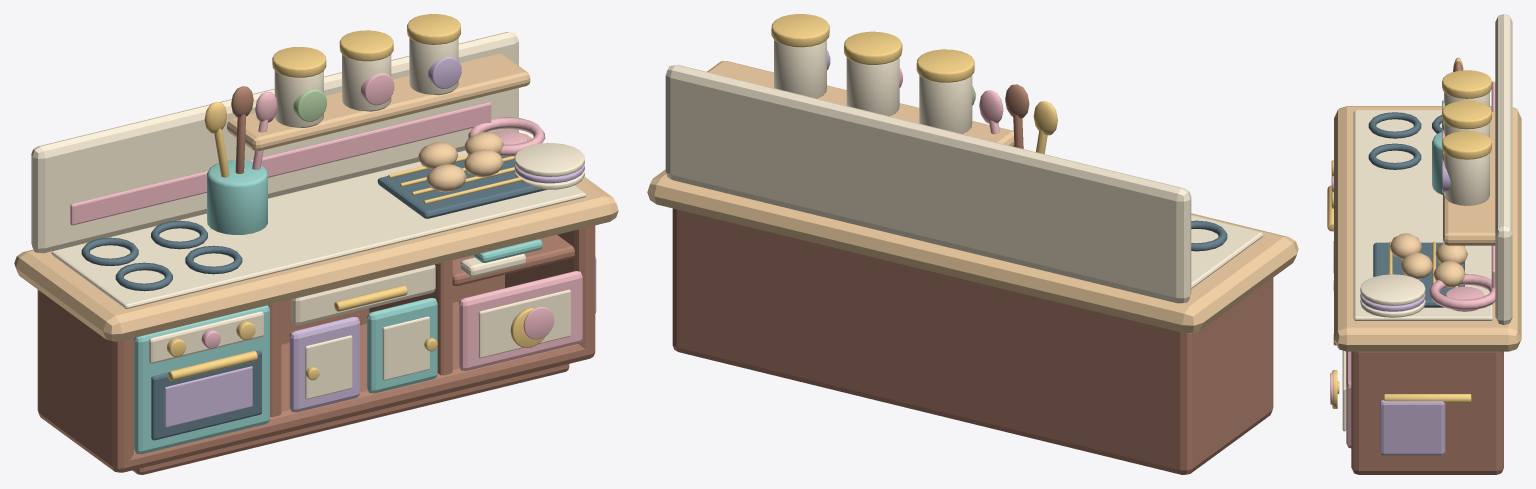
Rendered from MoonKitchenWorkbench.fbx.
3 views of the same model, side by side, from view 1: azimuth 30°, elevation 25°; view 2: azimuth 150°, elevation 25°; view 3: azimuth 270°, elevation 25° (orthographic). The views are drawn at different scales.
Visible parts, largest first — view 1: MoonKitchenWorkbench_Workbench_MoonCream, MoonKitchenWorkbench_Workbench_WarmWood, MoonKitchenWorkbench_Workbench_HoneyWood, MoonKitchenWorkbench_Workbench_Blush, MoonKitchenWorkbench_Workbench_MoonTeal, MoonKitchenWorkbench_Workbench_OvenGlass, MoonKitchenWorkbench_Workbench_Brass, MoonKitchenWorkbench_Workbench_Lavender, MoonKitchenWorkbench_Workbench_HerbGreen; view 2: MoonKitchenWorkbench_Workbench_WarmWood, MoonKitchenWorkbench_Workbench_MoonCream, MoonKitchenWorkbench_Workbench_HoneyWood, MoonKitchenWorkbench_Workbench_Brass, MoonKitchenWorkbench_Workbench_Blush; view 3: MoonKitchenWorkbench_Workbench_MoonCream, MoonKitchenWorkbench_Workbench_HoneyWood, MoonKitchenWorkbench_Workbench_WarmWood, MoonKitchenWorkbench_Workbench_Brass, MoonKitchenWorkbench_Workbench_Lavender, MoonKitchenWorkbench_Workbench_OvenGlass, MoonKitchenWorkbench_Workbench_Blush, MoonKitchenWorkbench_Workbench_MoonTeal.
Boxes of the visible parts, bbox=[...] form: MoonKitchenWorkbench_Workbench_MoonCream: bbox=[31, 32, 585, 399]; MoonKitchenWorkbench_Workbench_WarmWood: bbox=[37, 86, 595, 474]; MoonKitchenWorkbench_Workbench_HoneyWood: bbox=[14, 53, 618, 341]; MoonKitchenWorkbench_Workbench_Blush: bbox=[70, 73, 582, 370]; MoonKitchenWorkbench_Workbench_MoonTeal: bbox=[134, 160, 542, 454]; MoonKitchenWorkbench_Workbench_OvenGlass: bbox=[81, 156, 546, 440]; MoonKitchenWorkbench_Workbench_Brass: bbox=[167, 14, 545, 380]; MoonKitchenWorkbench_Workbench_Lavender: bbox=[164, 56, 596, 427]; MoonKitchenWorkbench_Workbench_HerbGreen: bbox=[293, 89, 326, 121]; MoonKitchenWorkbench_Workbench_WarmWood: bbox=[672, 84, 1273, 474]; MoonKitchenWorkbench_Workbench_MoonCream: bbox=[665, 40, 1263, 303]; MoonKitchenWorkbench_Workbench_HoneyWood: bbox=[647, 61, 1298, 333]; MoonKitchenWorkbench_Workbench_Brass: bbox=[771, 14, 1057, 153]; MoonKitchenWorkbench_Workbench_Blush: bbox=[899, 68, 1003, 134]; MoonKitchenWorkbench_Workbench_MoonCream: bbox=[1342, 14, 1512, 431]; MoonKitchenWorkbench_Workbench_HoneyWood: bbox=[1334, 106, 1521, 351]; MoonKitchenWorkbench_Workbench_WarmWood: bbox=[1351, 61, 1503, 474]; MoonKitchenWorkbench_Workbench_Brass: bbox=[1327, 57, 1491, 408]; MoonKitchenWorkbench_Workbench_Lavender: bbox=[1360, 161, 1450, 455]; MoonKitchenWorkbench_Workbench_OvenGlass: bbox=[1368, 112, 1464, 307]; MoonKitchenWorkbench_Workbench_Blush: bbox=[1330, 81, 1495, 448]; MoonKitchenWorkbench_Workbench_MoonTeal: bbox=[1432, 131, 1442, 194].
Bounding box in the file's own units: 2.52 × 1.51 × 0.89.
